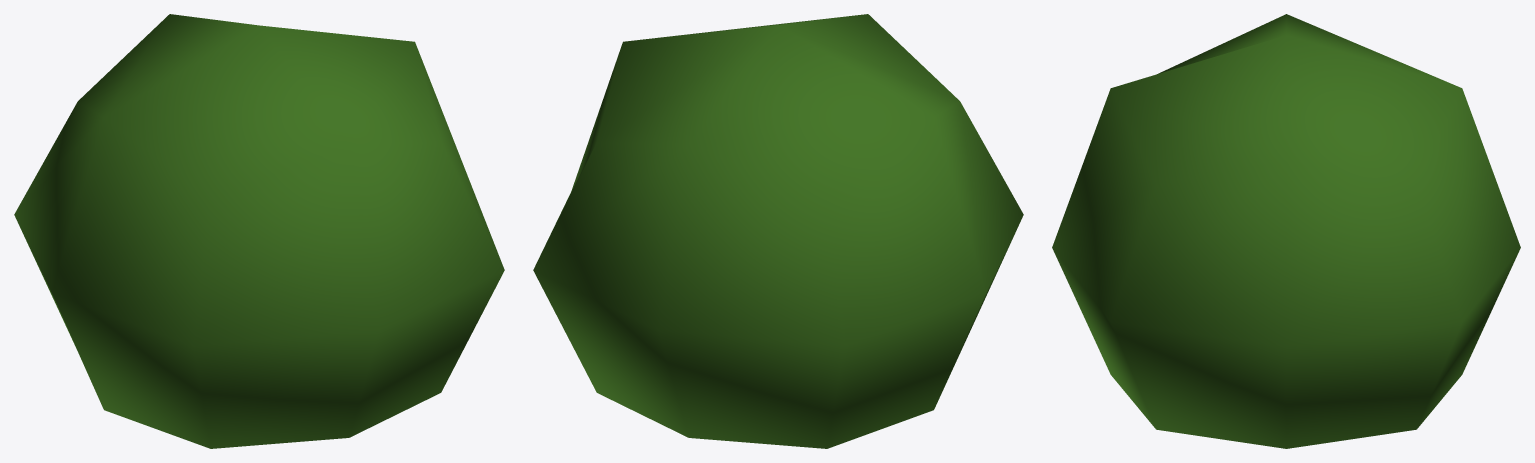
Rendered from Arbusto_02.fbx.
The picture shows the model from 3 angles, left to right: view 1: azimuth 30°, elevation 25°; view 2: azimuth 150°, elevation 25°; view 3: azimuth 270°, elevation 25°; orthographic projection. The views are drawn at different scales.
Parts seen in each view (by area): view 1: Arbusto_02; view 2: Arbusto_02; view 3: Arbusto_02.
Boxes of the visible parts, <box> form: Arbusto_02: <box>14,14,504,448</box>; Arbusto_02: <box>533,14,1023,448</box>; Arbusto_02: <box>1052,14,1520,448</box>.
Bounding box in the file's own units: 2.25 × 1.8 × 2.25.
